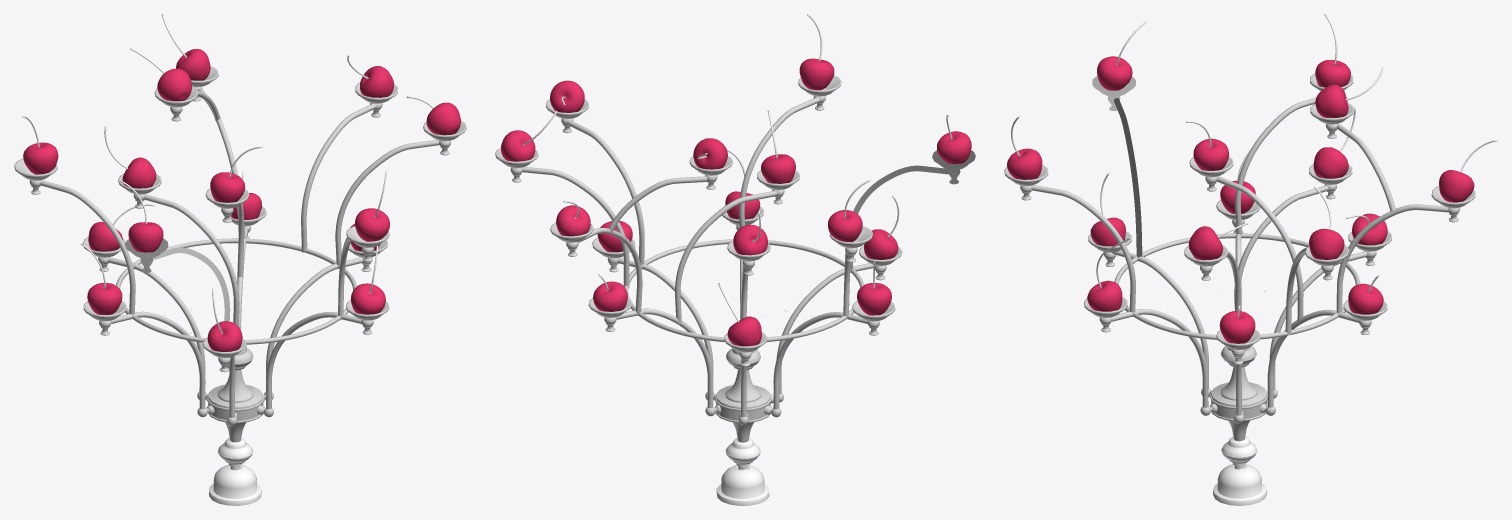
Rendered from lamp.glb.
The picture shows the model from 3 angles, left to right: view 1: azimuth 30°, elevation 25°; view 2: azimuth 150°, elevation 25°; view 3: azimuth 270°, elevation 25°; orthographic projection. The views are drawn at different scales.
Parts seen in each view (by area): view 1: SAN-ZW-2-OBJ.255, SAN-ZW-2-OBJ.104, SAN-ZW-2-OBJ.288, SAN-ZW-2-OBJ.299, SAN-ZW-2-OBJ.273, SAN-ZW-2-OBJ.245, SAN-ZW-2-OBJ.316, SAN-ZW-2-OBJ.386, SAN-ZW-2-OBJ.103, SAN-ZW-2-OBJ.261, SAN-ZW-2-OBJ.360, SAN-ZW-2-OBJ.364 (+14 smaller); view 2: SAN-ZW-2-OBJ.255, SAN-ZW-2-OBJ.104, SAN-ZW-2-OBJ.372, SAN-ZW-2-OBJ.245, SAN-ZW-2-OBJ.288, SAN-ZW-2-OBJ.387, SAN-ZW-2-OBJ.254, SAN-ZW-2-OBJ.103, SAN-ZW-2-OBJ.360, SAN-ZW-2-OBJ.351, SAN-ZW-2-OBJ.261, SAN-ZW-2-OBJ.386 (+18 smaller); view 3: SAN-ZW-2-OBJ.255, SAN-ZW-2-OBJ.104, SAN-ZW-2-OBJ.387, SAN-ZW-2-OBJ.307, SAN-ZW-2-OBJ.372, SAN-ZW-2-OBJ.299, SAN-ZW-2-OBJ.304, SAN-ZW-2-OBJ.351, SAN-ZW-2-OBJ.145, SAN-ZW-2-OBJ.270, SAN-ZW-2-OBJ.355, SAN-ZW-2-OBJ.311 (+19 smaller).
Boxes of the visible parts, x1=… form: SAN-ZW-2-OBJ.255: x1=116, y1=238, x2=356, y2=344; SAN-ZW-2-OBJ.104: x1=209, y1=464, x2=261, y2=505; SAN-ZW-2-OBJ.288: x1=335, y1=140, x2=439, y2=266; SAN-ZW-2-OBJ.299: x1=40, y1=180, x2=135, y2=314; SAN-ZW-2-OBJ.273: x1=144, y1=194, x2=239, y2=326; SAN-ZW-2-OBJ.245: x1=301, y1=103, x2=375, y2=252; SAN-ZW-2-OBJ.316: x1=157, y1=68, x2=191, y2=101; SAN-ZW-2-OBJ.386: x1=355, y1=208, x2=389, y2=241; SAN-ZW-2-OBJ.103: x1=111, y1=311, x2=205, y2=409; SAN-ZW-2-OBJ.261: x1=87, y1=283, x2=122, y2=315; SAN-ZW-2-OBJ.360: x1=426, y1=102, x2=460, y2=135; SAN-ZW-2-OBJ.364: x1=23, y1=142, x2=58, y2=174; SAN-ZW-2-OBJ.255: x1=624, y1=239, x2=864, y2=341; SAN-ZW-2-OBJ.104: x1=716, y1=465, x2=769, y2=505; SAN-ZW-2-OBJ.372: x1=675, y1=191, x2=776, y2=323; SAN-ZW-2-OBJ.245: x1=522, y1=167, x2=629, y2=287; SAN-ZW-2-OBJ.288: x1=566, y1=120, x2=644, y2=264; SAN-ZW-2-OBJ.387: x1=739, y1=97, x2=819, y2=227; SAN-ZW-2-OBJ.254: x1=616, y1=308, x2=713, y2=408; SAN-ZW-2-OBJ.103: x1=773, y1=312, x2=867, y2=409; SAN-ZW-2-OBJ.360: x1=550, y1=80, x2=584, y2=112; SAN-ZW-2-OBJ.351: x1=937, y1=131, x2=971, y2=164; SAN-ZW-2-OBJ.261: x1=857, y1=283, x2=891, y2=315; SAN-ZW-2-OBJ.386: x1=799, y1=58, x2=834, y2=90; SAN-ZW-2-OBJ.255: x1=1114, y1=233, x2=1360, y2=339; SAN-ZW-2-OBJ.104: x1=1213, y1=464, x2=1266, y2=505; SAN-ZW-2-OBJ.387: x1=1032, y1=185, x2=1135, y2=316; SAN-ZW-2-OBJ.307: x1=1336, y1=204, x2=1448, y2=312; SAN-ZW-2-OBJ.372: x1=1216, y1=176, x2=1303, y2=320; SAN-ZW-2-OBJ.299: x1=1235, y1=97, x2=1316, y2=235; SAN-ZW-2-OBJ.304: x1=1114, y1=98, x2=1142, y2=257; SAN-ZW-2-OBJ.351: x1=1097, y1=56, x2=1132, y2=90; SAN-ZW-2-OBJ.145: x1=1112, y1=309, x2=1208, y2=407; SAN-ZW-2-OBJ.270: x1=1219, y1=311, x2=1255, y2=343; SAN-ZW-2-OBJ.355: x1=1193, y1=138, x2=1228, y2=170; SAN-ZW-2-OBJ.311: x1=1439, y1=170, x2=1474, y2=202.
Size of the model in its own units: 19.73 by 19.8 by 21.56.
